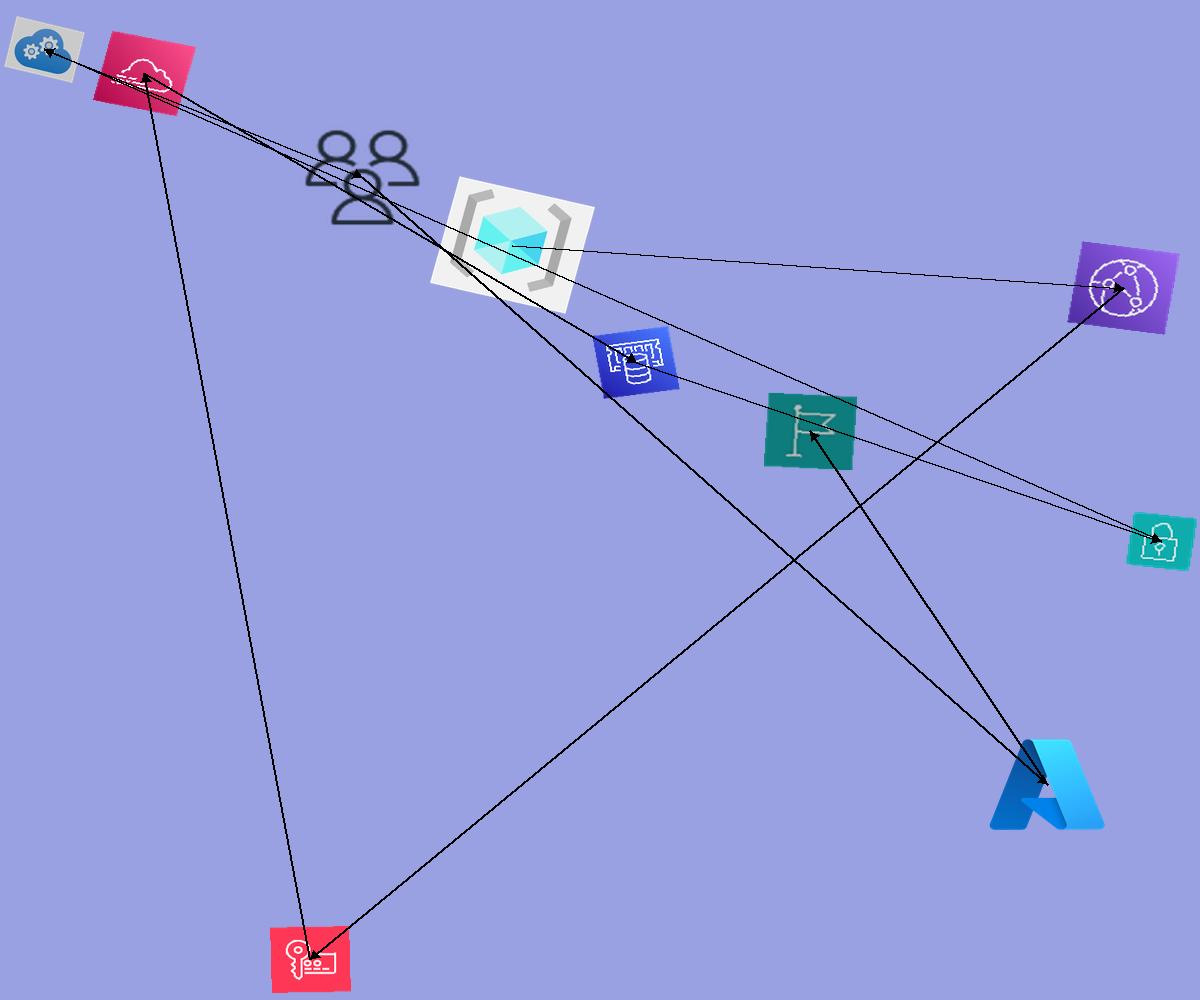AWS-CloudFront: (1067, 241, 1180, 335)
AWS-CloudTrail: (92, 30, 197, 117)
AWS-ElastiCache: (592, 326, 680, 399)
AWS-Key-Management-Service: (270, 926, 351, 993)
AWS-Private-subnet: (1125, 511, 1198, 572)
AWS-Region: (763, 392, 858, 471)
AWS-Res_Users: (298, 124, 427, 231)
Azure_cloud_services: (4, 16, 85, 83)
Azure_resource_group: (430, 176, 595, 314)
Azure_services: (984, 732, 1110, 837)
